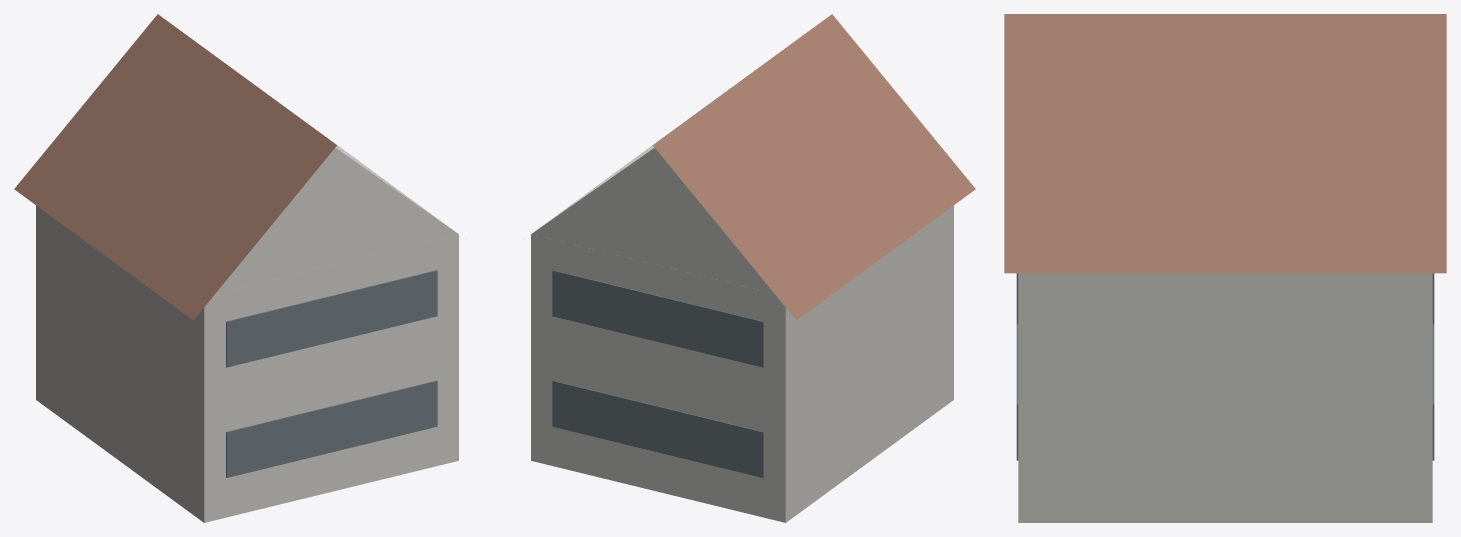
Rendered from cottage-white.loc-v1.lod2.glb.
3 views of the same model, side by side, from view 1: azimuth 30°, elevation 25°; view 2: azimuth 150°, elevation 25°; view 3: azimuth 270°, elevation 25° (orthographic). The views are drawn at different scales.
Parts seen in each view (by area): view 1: cottage-white; view 2: cottage-white; view 3: cottage-white.
Part boxes in pixels (<box>): cottage-white: <box>14,14,458,522</box>; cottage-white: <box>531,14,975,522</box>; cottage-white: <box>1004,14,1446,522</box>.
Size of the model in its own units: 7.9 by 9.21 by 8.54.
